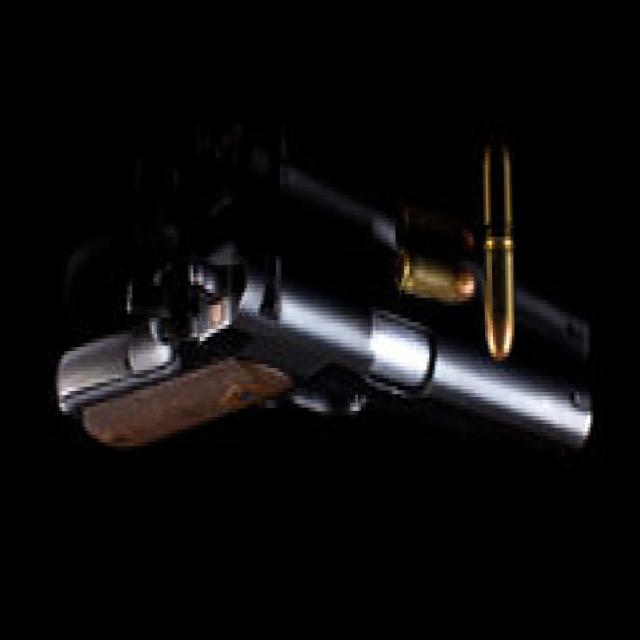handgun: (51, 237, 597, 463)
